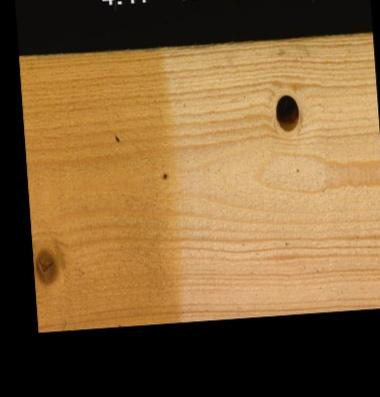small_knot: (158, 167, 170, 181)
sound_knot: (33, 243, 59, 287)
